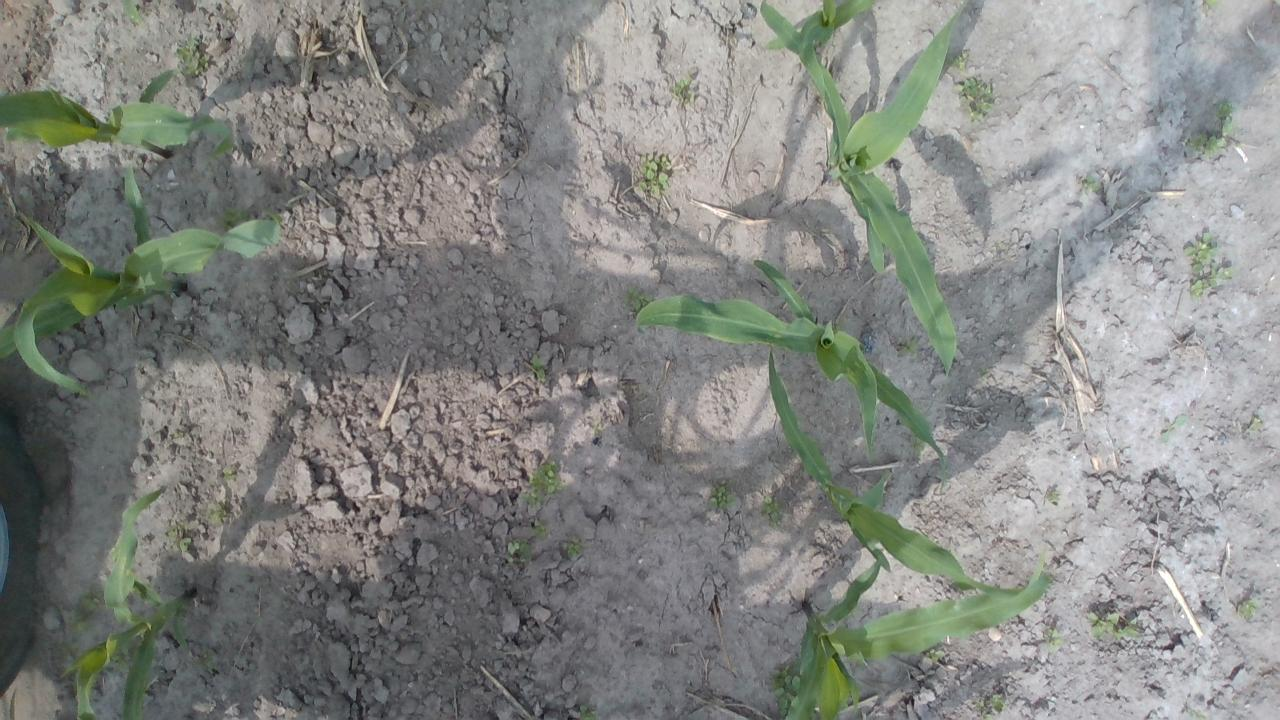Maize: (757, 0, 971, 376), (634, 259, 948, 491), (767, 348, 1046, 594), (0, 162, 286, 394), (782, 573, 1054, 720), (56, 487, 192, 720), (0, 67, 235, 175), (759, 0, 874, 53), (120, 0, 156, 27)
Weeds: (1184, 98, 1236, 160), (522, 460, 566, 507), (768, 660, 802, 720), (954, 75, 994, 122), (63, 588, 99, 636), (172, 35, 210, 77), (634, 156, 671, 199), (1188, 264, 1234, 298), (1182, 231, 1219, 272), (1084, 610, 1118, 640), (708, 479, 737, 512), (618, 284, 654, 308), (1160, 414, 1188, 444), (504, 538, 534, 566), (166, 520, 191, 553), (758, 496, 783, 528), (205, 502, 232, 529), (219, 206, 249, 230), (1076, 172, 1103, 196), (673, 78, 697, 104), (194, 647, 220, 671), (55, 640, 83, 661), (1115, 618, 1140, 641), (944, 49, 969, 71), (1235, 598, 1262, 618), (530, 352, 549, 380), (110, 647, 132, 670), (561, 535, 582, 558), (1046, 626, 1066, 648), (898, 336, 918, 354), (909, 435, 926, 456), (924, 648, 946, 664), (576, 704, 598, 720), (530, 519, 546, 540), (988, 694, 1006, 712), (977, 702, 994, 720), (1248, 416, 1264, 435), (222, 466, 238, 483), (1201, 0, 1220, 13), (1047, 489, 1061, 500), (978, 364, 988, 378), (1196, 710, 1210, 720)
